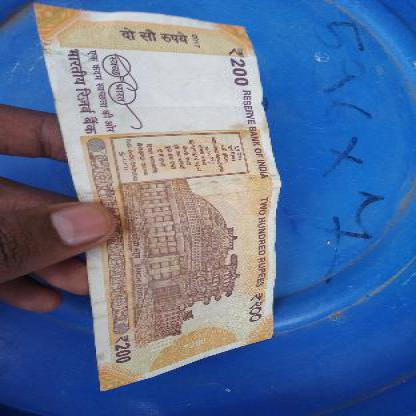New200Back: (32, 3, 284, 379)
